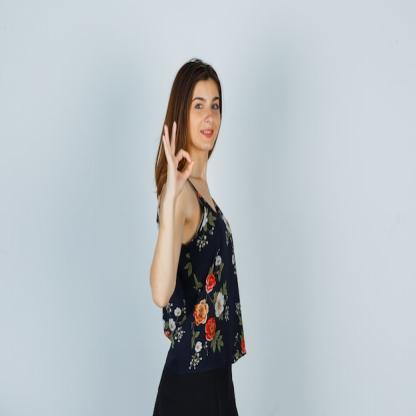ok: (160, 120, 196, 199)
